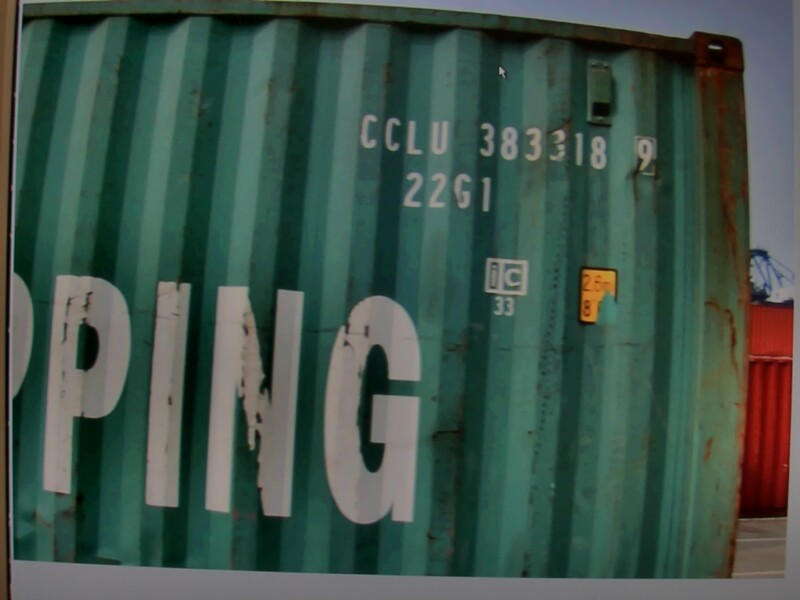container_no_door: (29, 1, 718, 564)
